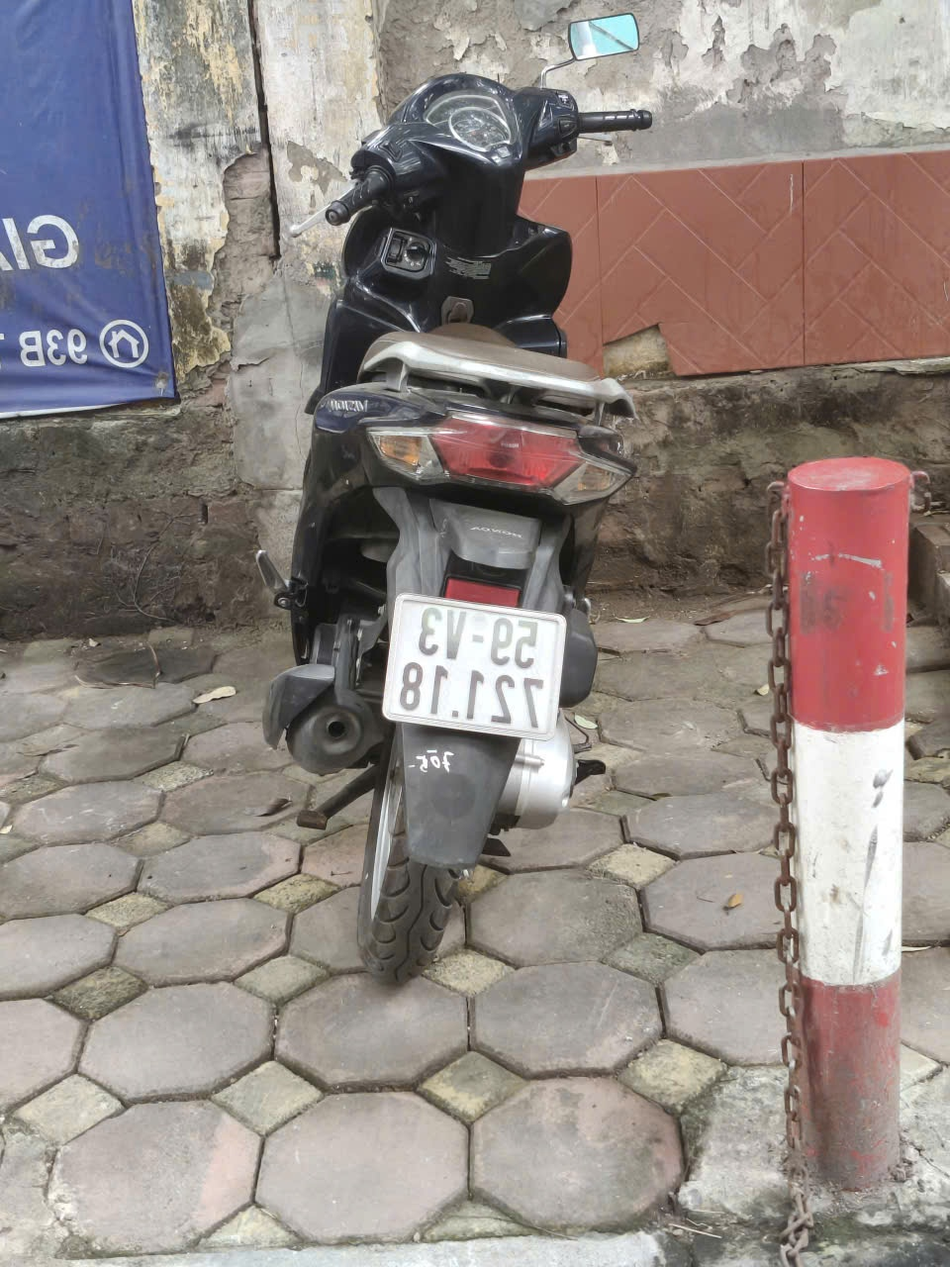plate: (427, 384, 560, 427)
